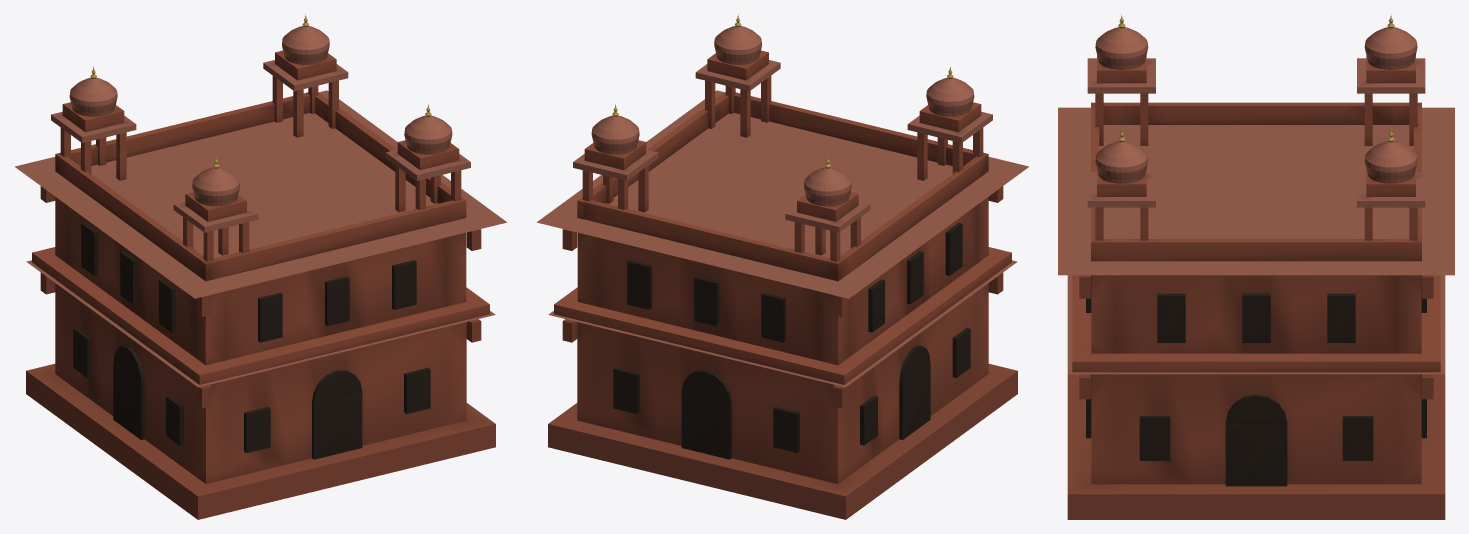
Rendered from diwan-i-khas.glb.
3 views of the same model, side by side, from view 1: azimuth 30°, elevation 25°; view 2: azimuth 150°, elevation 25°; view 3: azimuth 270°, elevation 25° (orthographic). The views are drawn at different scales.
Visible parts, largest first — view 1: p0_hall, p1_eaves and kiosks, p2_corner kiosks; view 2: p0_hall, p1_eaves and kiosks, p2_corner kiosks; view 3: p0_hall, p1_eaves and kiosks, p2_corner kiosks.
Part boxes in pixels (x1=…): p0_hall: x1=26, y1=197, x2=495, y2=519; p1_eaves and kiosks: x1=15, y1=90, x2=507, y2=408; p2_corner kiosks: x1=51, y1=14, x2=470, y2=261; p0_hall: x1=548, y1=197, x2=1017, y2=519; p1_eaves and kiosks: x1=536, y1=90, x2=1028, y2=408; p2_corner kiosks: x1=573, y1=14, x2=992, y2=261; p0_hall: x1=1067, y1=275, x2=1445, y2=519; p1_eaves and kiosks: x1=1058, y1=102, x2=1454, y2=399; p2_corner kiosks: x1=1087, y1=14, x2=1425, y2=240.
Size of the model in its own units: 16.8 by 17.25 by 16.8.
